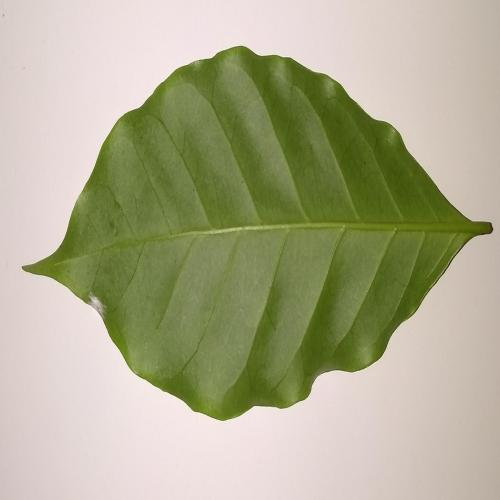leaf: (14, 32, 500, 427)
